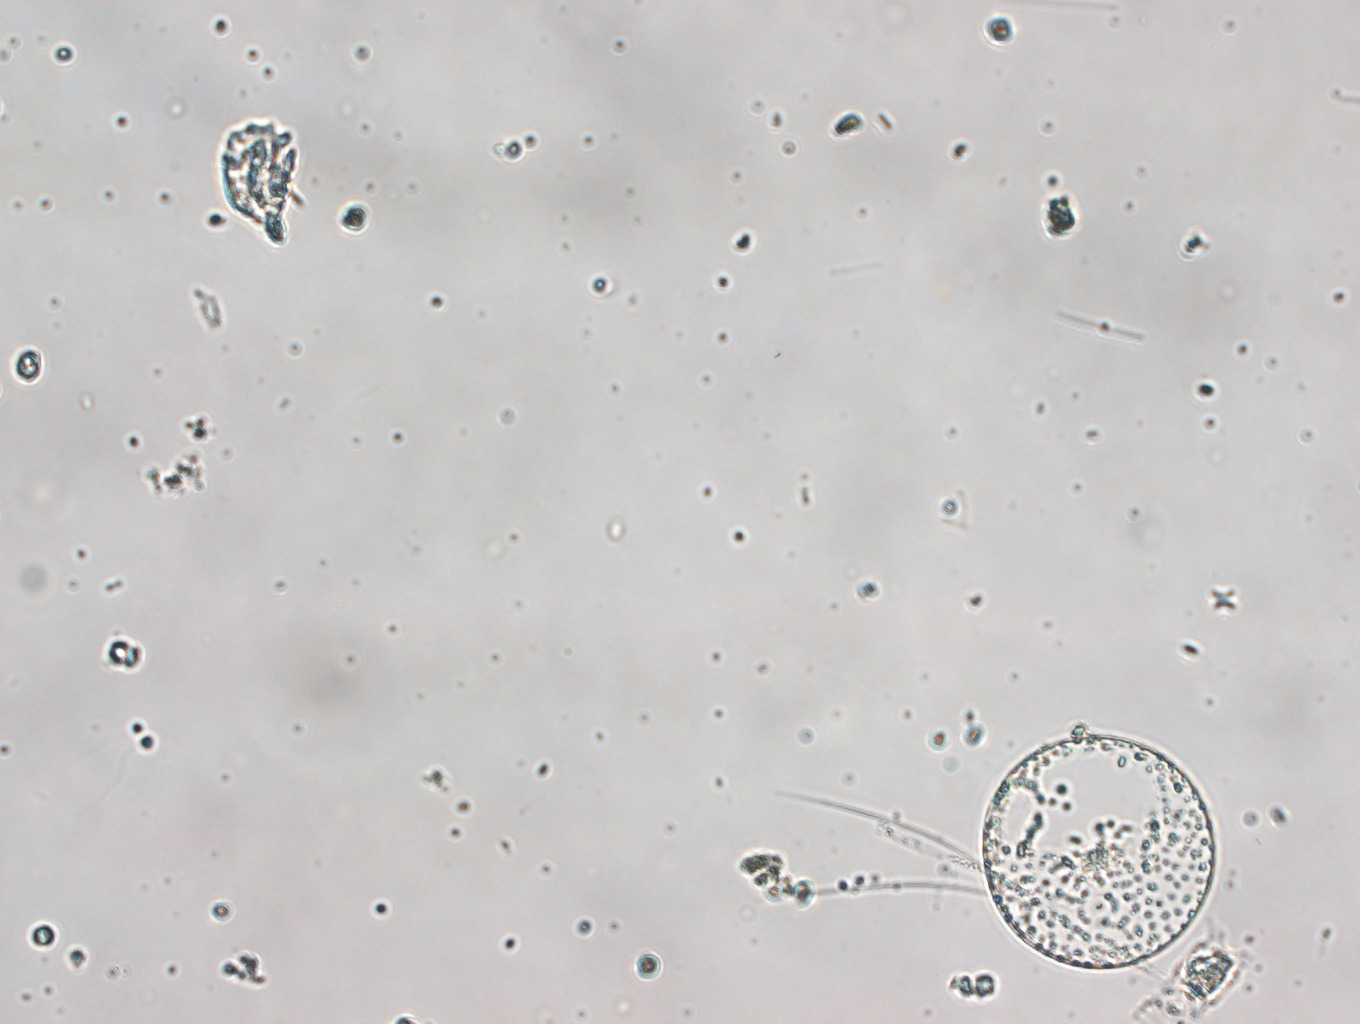coscinodiscus: (980, 734, 1216, 973)
